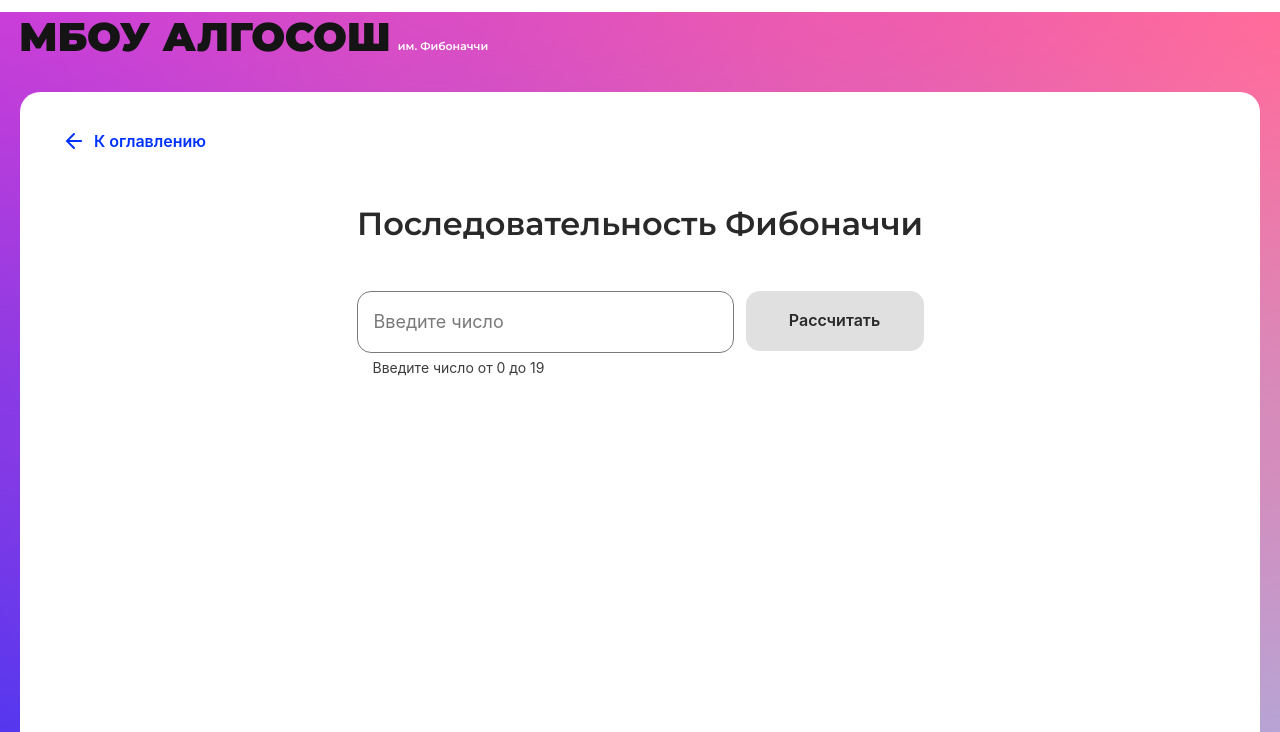
it: Fibonacci page › should visualize the algorithm correctly
Step 1. Type "7" into the number field with test id "value-input" → (546, 322), box top-left (357, 291), bottom-right (734, 353)
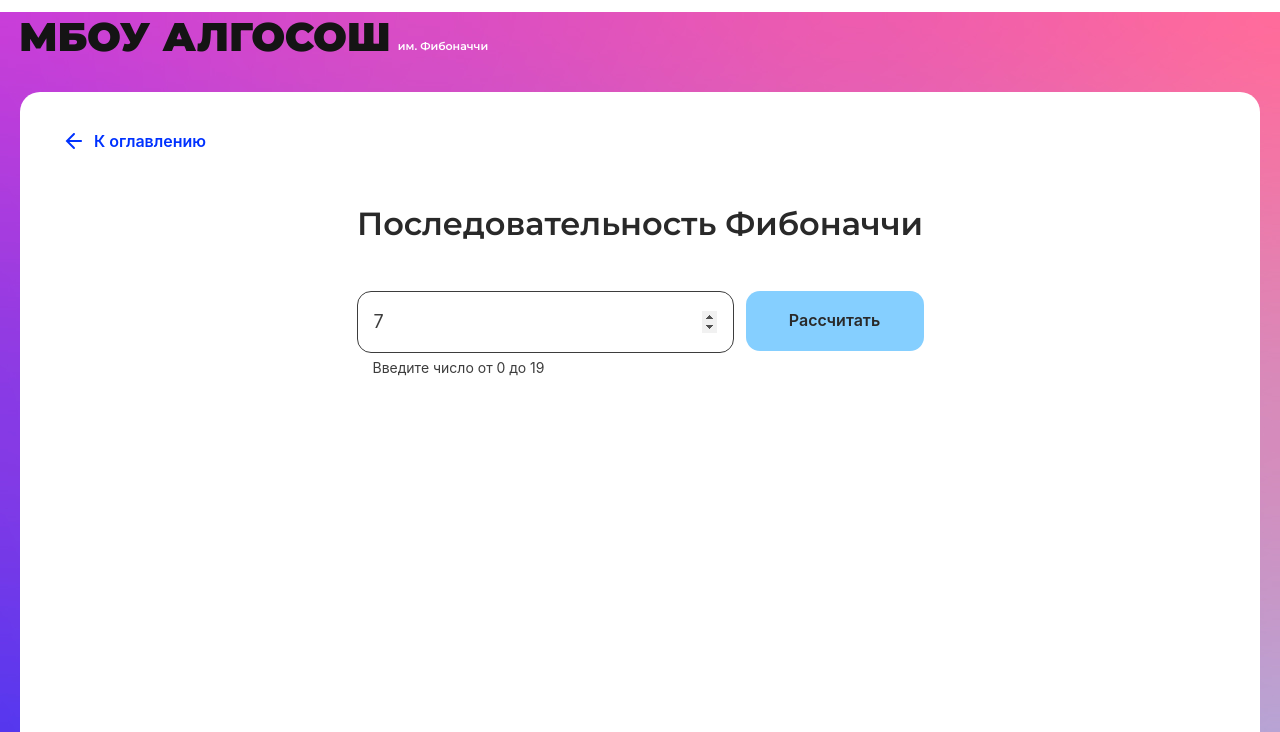
Step 2. Click the button with test id "button" → click(835, 321), box top-left (746, 291), bottom-right (924, 351)
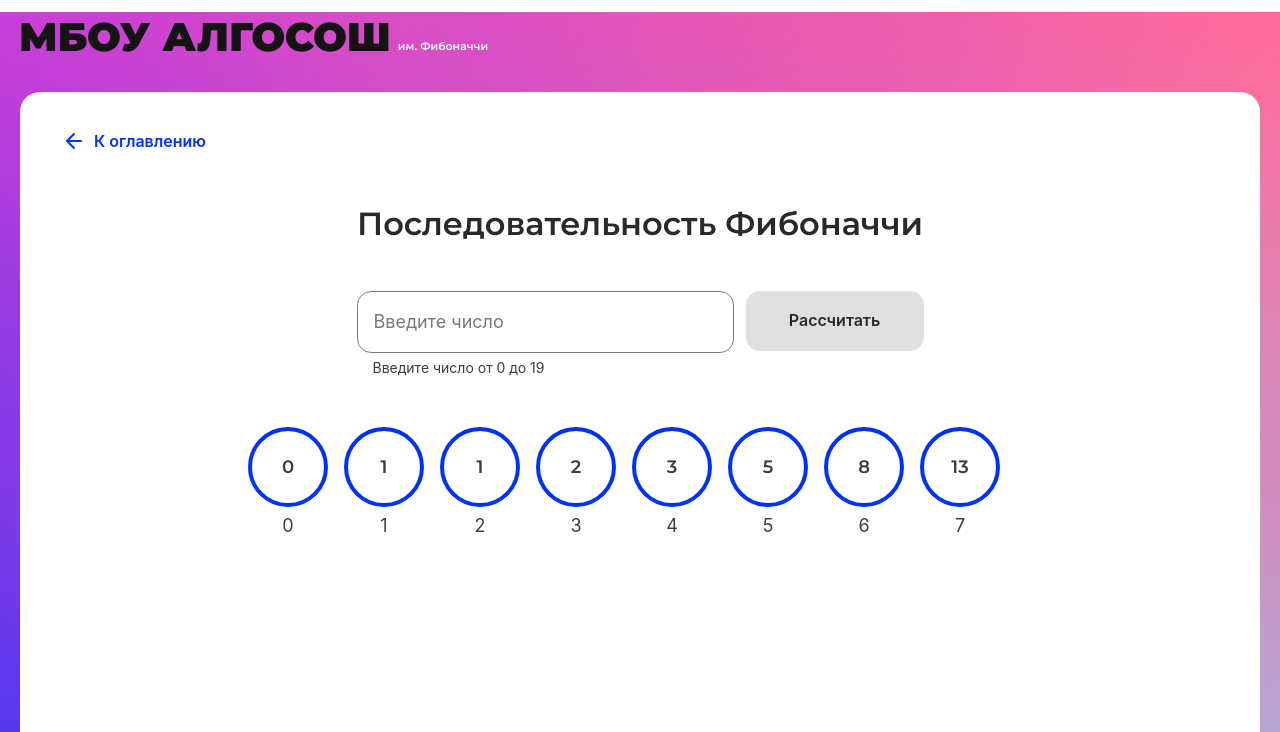
Expected: the text with test id "circle-core" reads "0", top-left (282, 456), bottom-right (294, 478)
Expected: the text with test id "circle-core" reads "1", top-left (381, 456), bottom-right (388, 478)
Expected: the text with test id "circle-core" reads "2", top-left (571, 456), bottom-right (581, 478)
